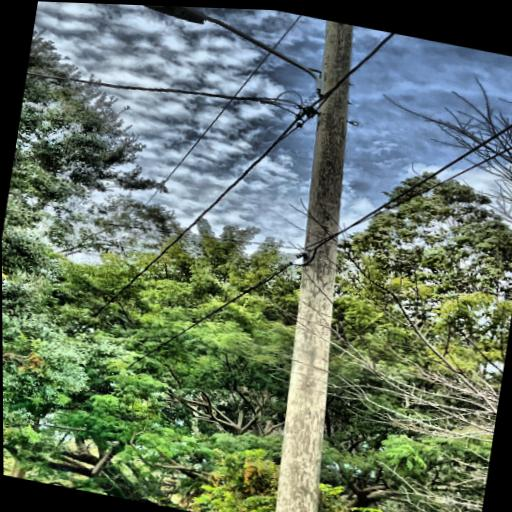pole: (230, 14, 429, 512)
street light: (125, 5, 337, 97)
